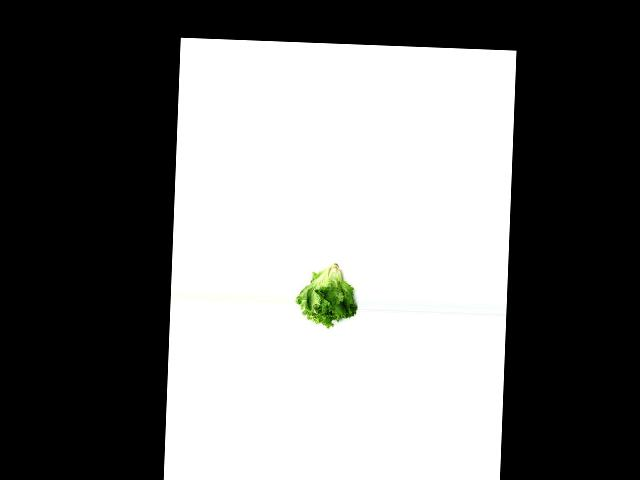lettuce: (293, 260, 360, 327)
